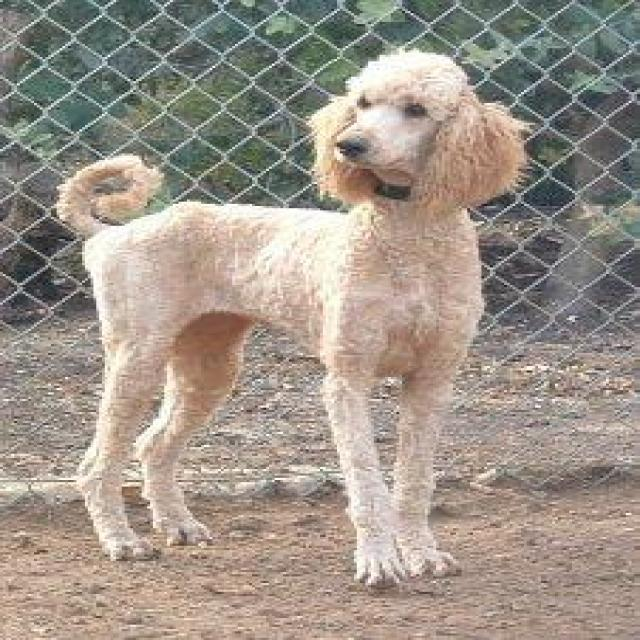good: (52, 51, 526, 585)
